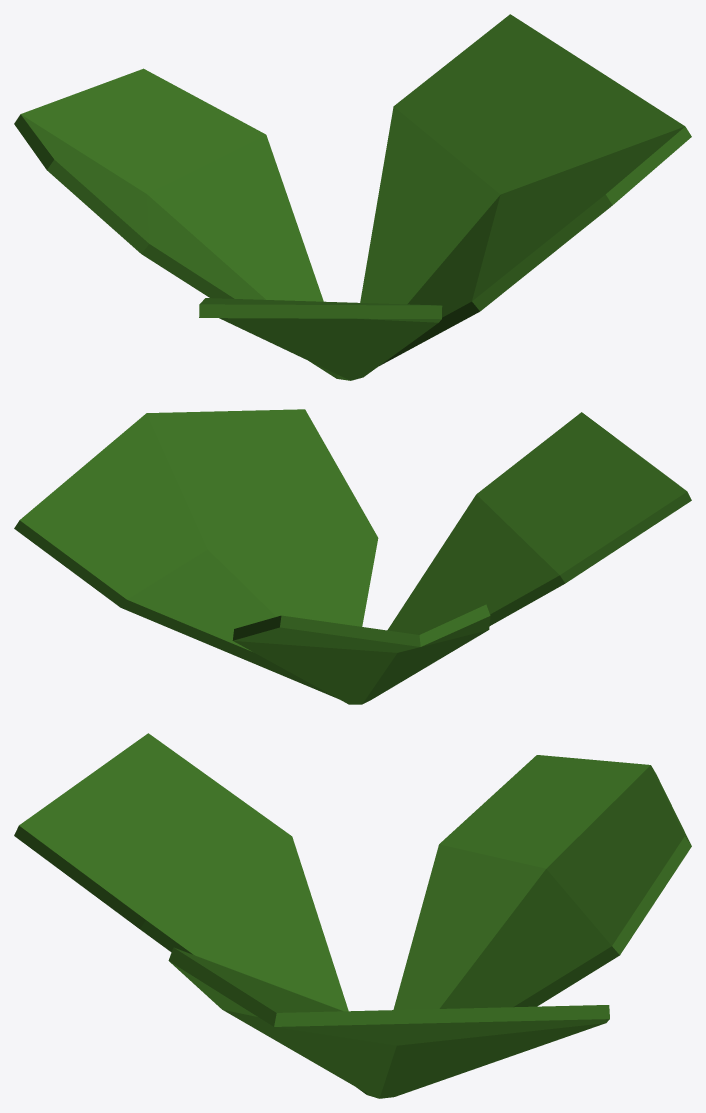
The model's file is Папороть1_lod1.fbx.
3 views of the same model, one above another, from view 1: azimuth 30°, elevation 25°; view 2: azimuth 150°, elevation 25°; view 3: azimuth 270°, elevation 25° (orthographic). The views are drawn at different scales.
Parts seen in each view (by area): view 1: fern_LOD_1.001; view 2: fern_LOD_1.001; view 3: fern_LOD_1.001.
Part boxes in pixels (x1,y1,x2,y2): fern_LOD_1.001: (14,14,691,380); fern_LOD_1.001: (14,409,691,704); fern_LOD_1.001: (14,733,691,1098).
Bounding box in the file's own units: 6339 × 2345 × 6407.
